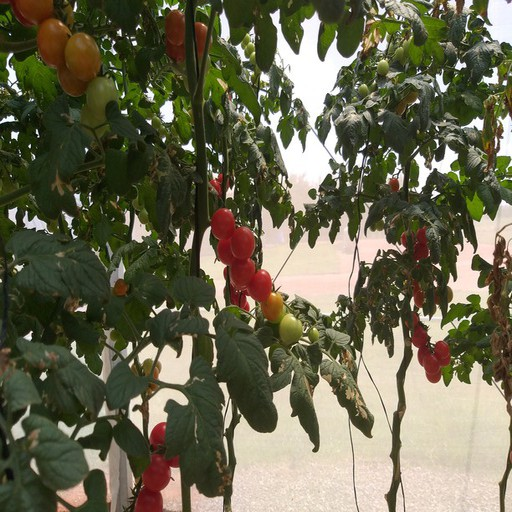dry leaves: (485, 219, 512, 384)
green tomato bunch: (351, 47, 407, 104), (236, 24, 264, 76)
mixed tomato bunch: (6, 1, 120, 144), (163, 6, 209, 92)
red tomato bunch: (210, 206, 283, 317), (136, 421, 196, 512), (400, 223, 452, 307), (404, 309, 451, 387), (204, 172, 236, 201)
